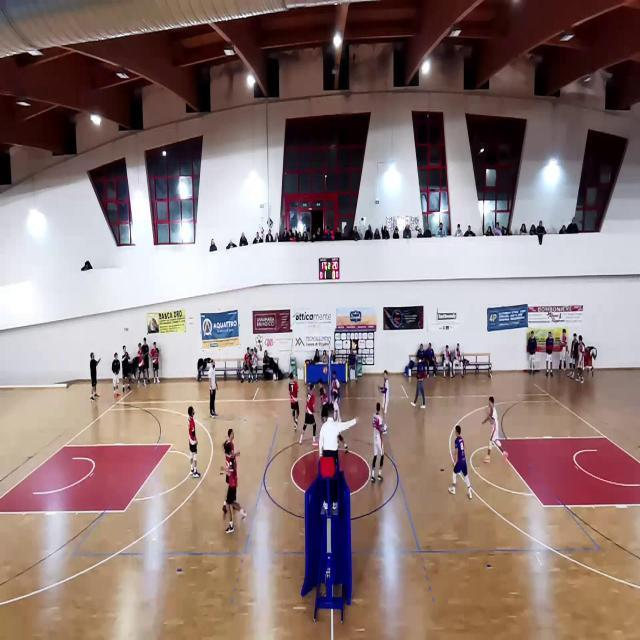volleyball: (323, 368, 327, 374)
